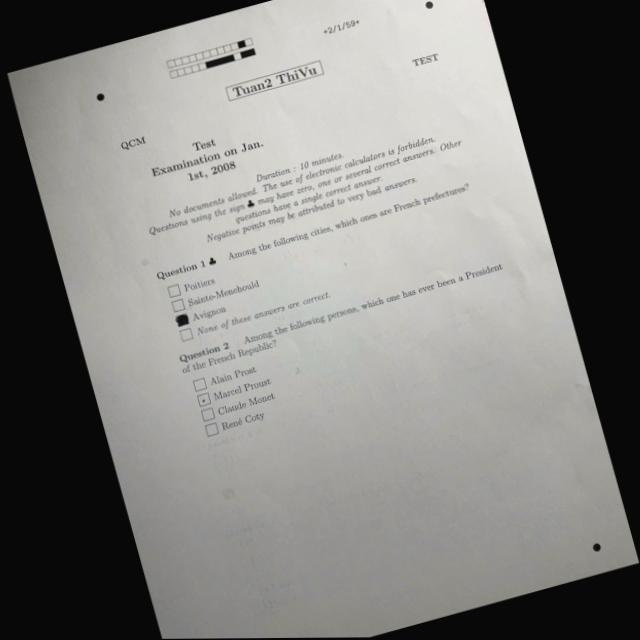Markers: (591, 540, 602, 552), (95, 92, 105, 102), (424, 0, 434, 9)
